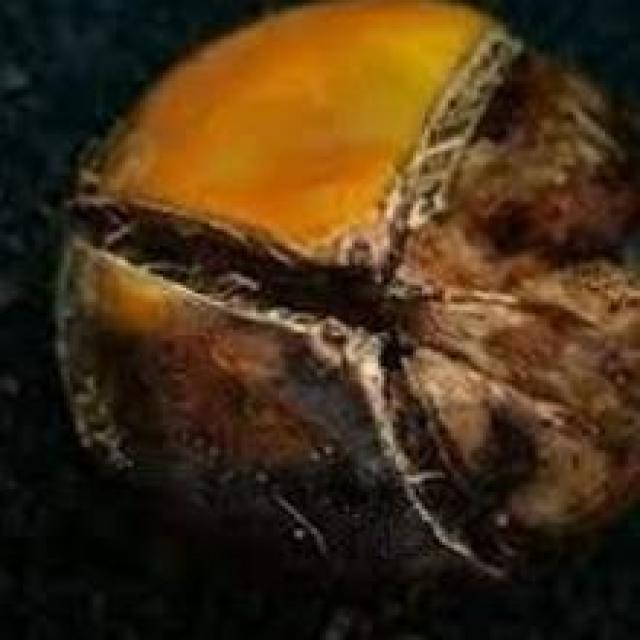damaged: (55, 0, 637, 576)
